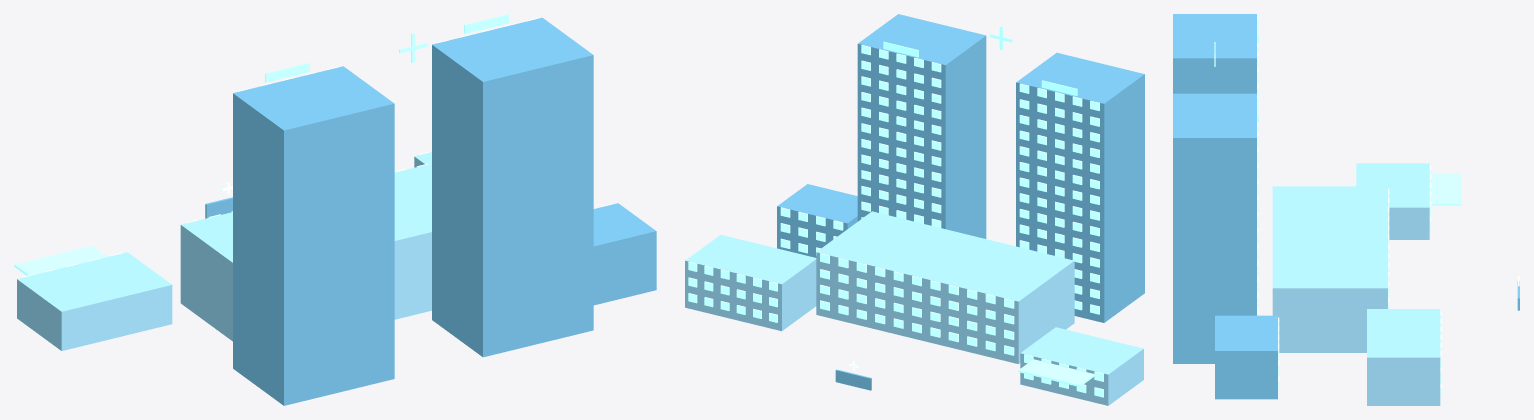
The model's file is hospital-partner-flagship.glb.
3 renders of one model, left to right at view 1: azimuth 30°, elevation 25°; view 2: azimuth 150°, elevation 25°; view 3: azimuth 270°, elevation 25°, orthographic. The views are drawn at different scales.
Parts seen in each view (by area): view 1: HOSPITAL_FLAGSHIP; view 2: HOSPITAL_FLAGSHIP; view 3: HOSPITAL_FLAGSHIP.
Boxes of the visible parts, x1=… form: HOSPITAL_FLAGSHIP: x1=14, y1=14, x2=656, y2=405; HOSPITAL_FLAGSHIP: x1=685, y1=14, x2=1144, y2=405; HOSPITAL_FLAGSHIP: x1=1173, y1=14, x2=1519, y2=405.
Size of the model in its own units: 95 by 54.6 by 66.2.
